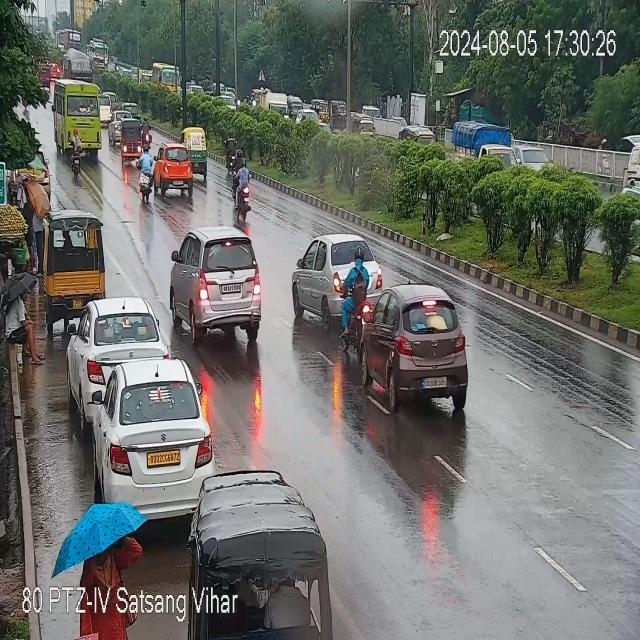2-wheelers: (337, 247, 369, 349), (227, 156, 252, 208), (139, 142, 152, 210), (68, 124, 82, 176), (142, 115, 152, 150)
auto: (42, 204, 112, 308), (119, 117, 145, 161)
bus: (52, 78, 106, 154), (153, 61, 182, 94), (90, 34, 109, 69), (60, 31, 78, 49)
car: (97, 357, 215, 493), (359, 278, 474, 414), (158, 214, 266, 334), (64, 299, 159, 389), (282, 228, 343, 308), (152, 140, 196, 192)
pedestrian: (80, 539, 142, 640), (182, 124, 208, 177)
truck: (454, 118, 518, 176), (58, 50, 93, 75)
